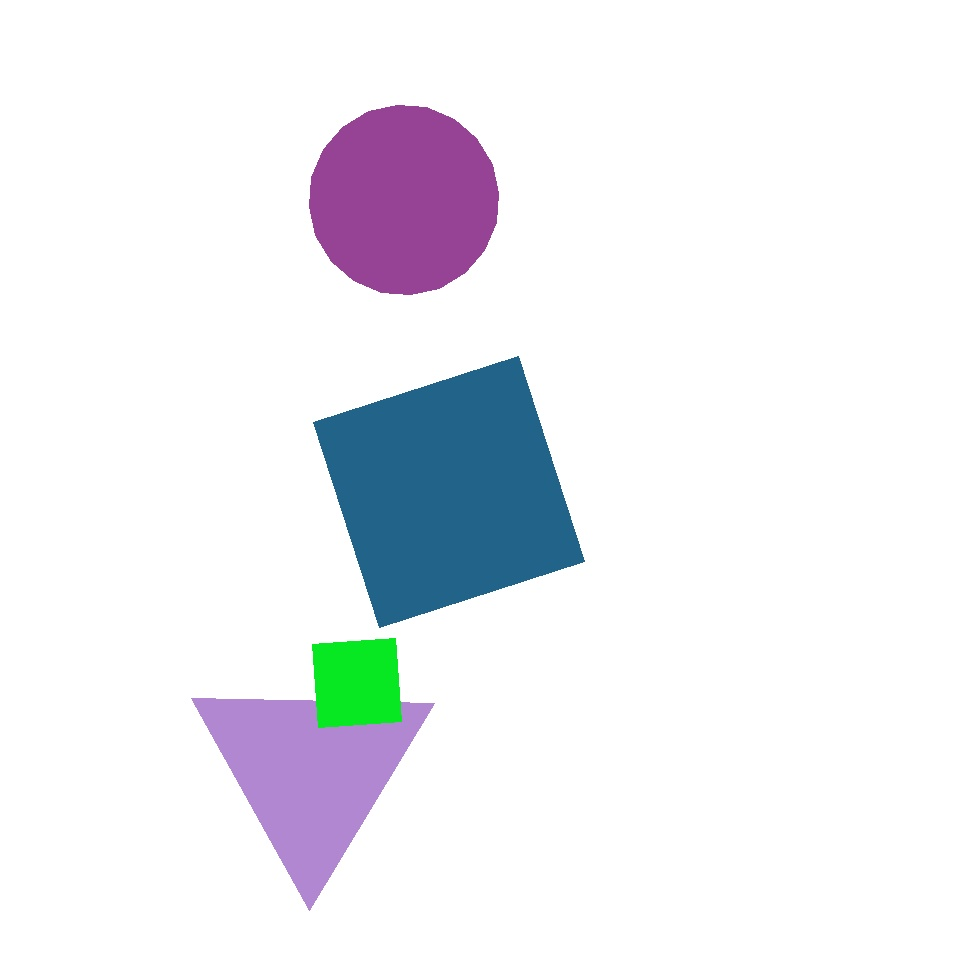circle: (191, 665, 434, 877), (628, 598, 834, 786)
square: (554, 136, 901, 483), (314, 356, 584, 627), (313, 638, 402, 728)
triangle: (310, 106, 498, 294)
